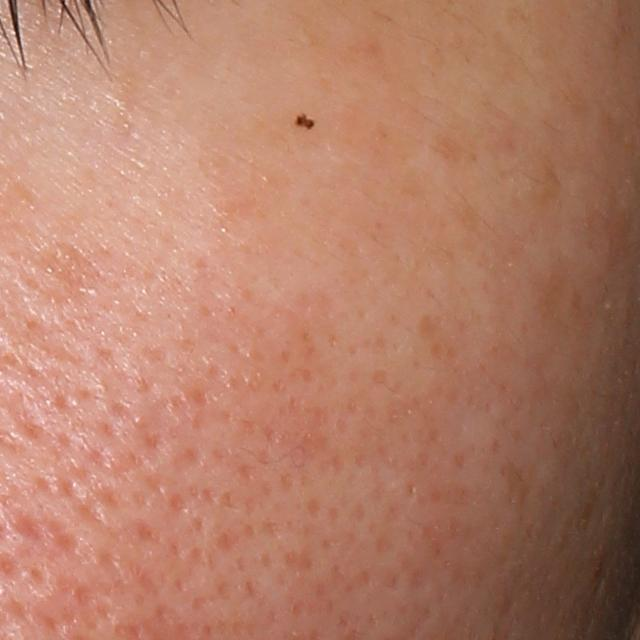nevus: (290, 109, 320, 130)
